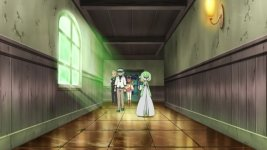gardevoir: (136, 70, 158, 118)
